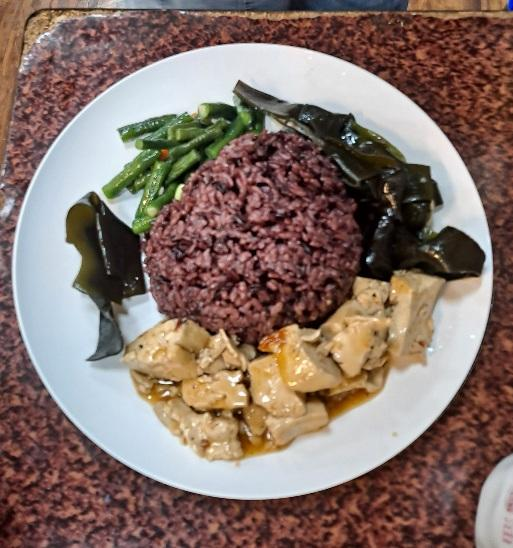big fried chicken leg: (4, 38, 513, 500)
braised fish: (147, 135, 356, 333)
braised fish fillet: (127, 269, 441, 461), (240, 77, 486, 283), (103, 93, 260, 230), (51, 189, 148, 362)
